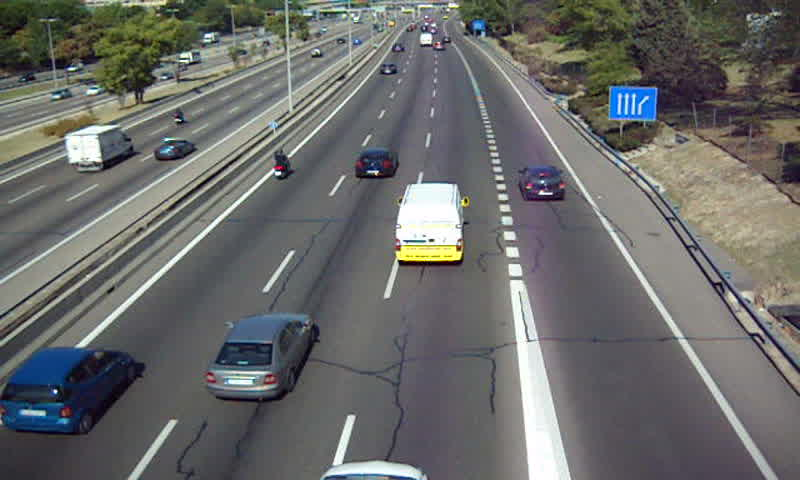car: (2, 348, 134, 433), (205, 313, 318, 402), (518, 166, 568, 203), (354, 149, 398, 177), (378, 62, 398, 77)
motorcycle: (271, 148, 290, 181)
van: (395, 184, 464, 263)
